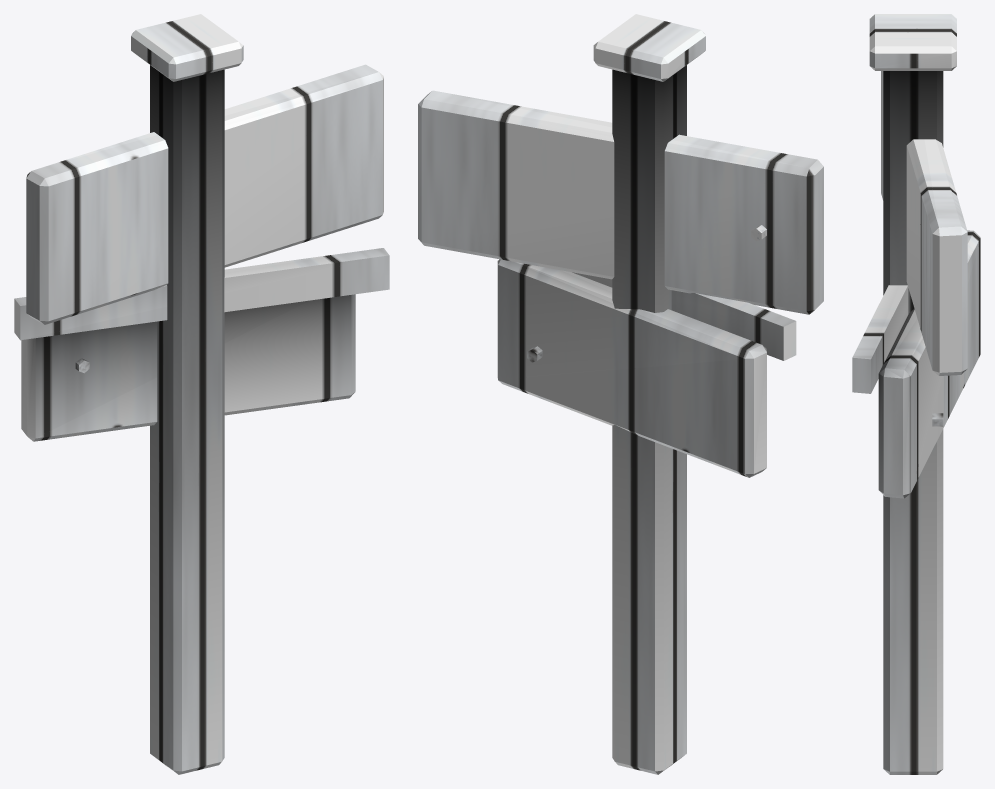
3 views of the same model, side by side, from view 1: azimuth 30°, elevation 25°; view 2: azimuth 150°, elevation 25°; view 3: azimuth 270°, elevation 25° (orthographic).
Parts seen in each view (by area): view 1: sign_M_wood, sign_M_wood_dark; view 2: sign_M_wood, sign_M_wood_dark; view 3: sign_M_wood, sign_M_wood_dark.
Part boxes in pixels (bbox=[...]): sign_M_wood: bbox=[21, 65, 355, 774]; sign_M_wood_dark: bbox=[14, 14, 389, 340]; sign_M_wood: bbox=[497, 65, 766, 774]; sign_M_wood_dark: bbox=[418, 14, 823, 360]; sign_M_wood: bbox=[878, 71, 980, 774]; sign_M_wood_dark: bbox=[852, 14, 967, 393].
Size of the model in its own units: 0.799 by 1.49 by 0.2353.
3 materials, 3 textured.
